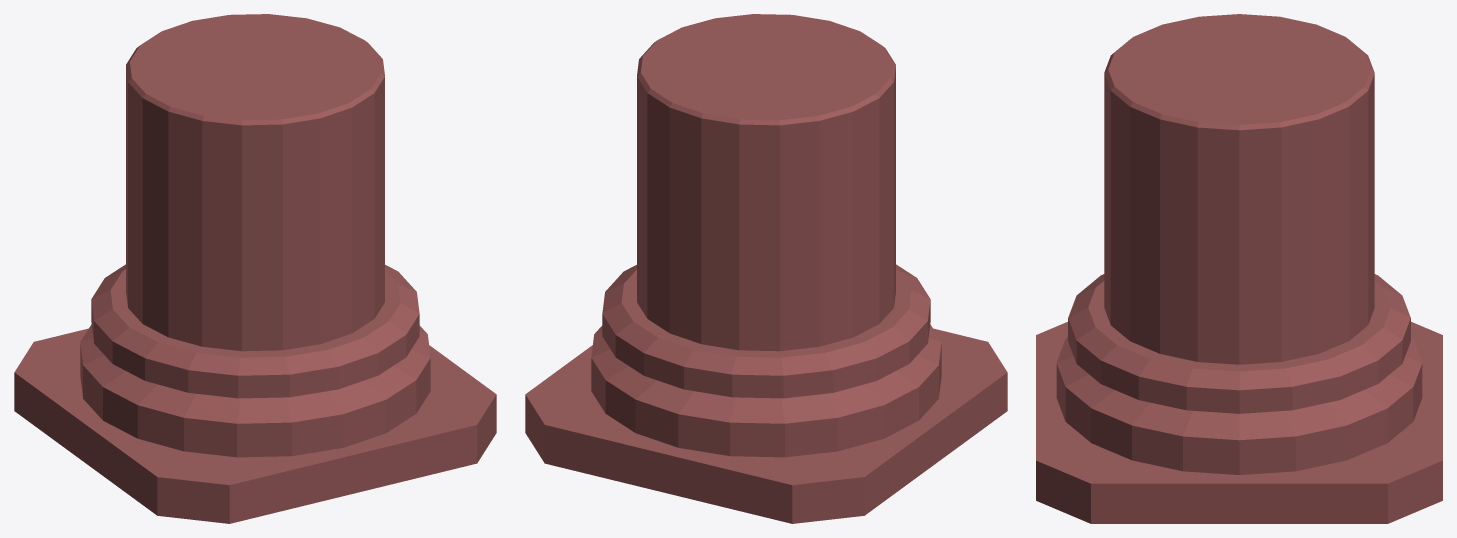
The model's file is colon2_bot.fbx.
The picture shows the model from 3 angles, left to right: view 1: azimuth 30°, elevation 25°; view 2: azimuth 150°, elevation 25°; view 3: azimuth 270°, elevation 25°; orthographic projection. The views are drawn at different scales.
Visible parts, largest first — view 1: colon2_bot; view 2: colon2_bot; view 3: colon2_bot.
Part boxes in pixels (x1=…): colon2_bot: x1=14, y1=14, x2=496, y2=523; colon2_bot: x1=525, y1=14, x2=1007, y2=523; colon2_bot: x1=1036, y1=14, x2=1442, y2=523.
Size of the model in its own units: 1 by 1 by 1.
